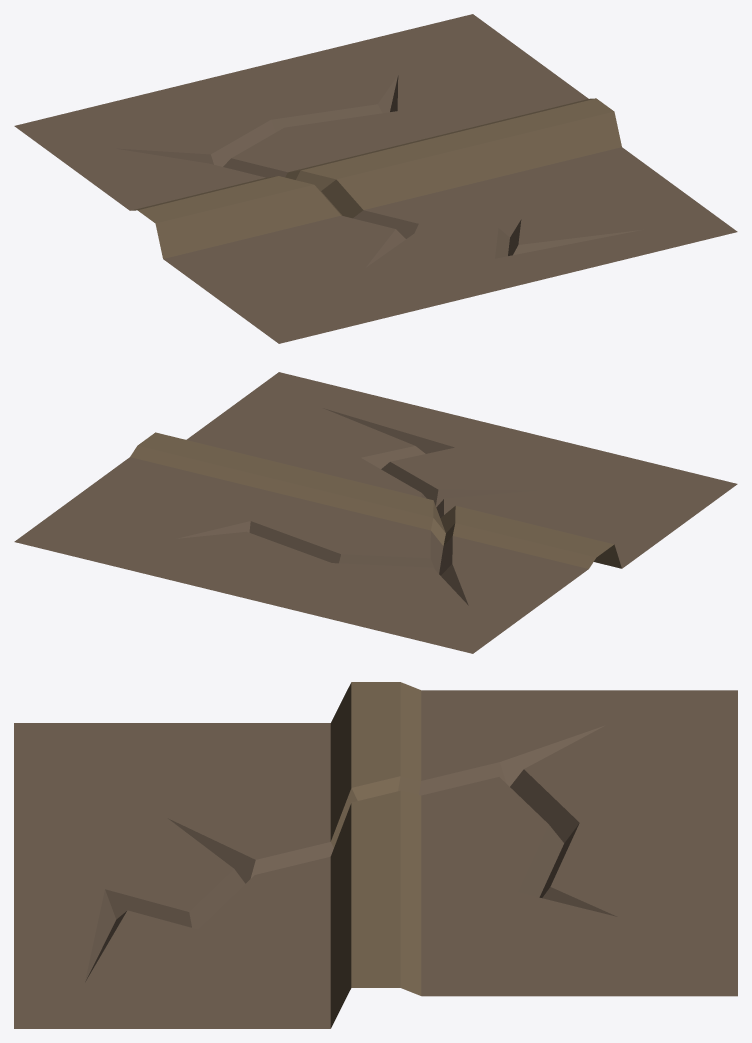
File: LP_PostApoc_PavedEdge.fbx
3 views of the same model, one above another, from view 1: azimuth 30°, elevation 25°; view 2: azimuth 150°, elevation 25°; view 3: azimuth 270°, elevation 25° (orthographic). The views are drawn at different scales.
Visible parts, largest first — view 1: PavedEdge; view 2: PavedEdge; view 3: PavedEdge.
Boxes of the visible parts, <box> form: PavedEdge: <box>14,14,737,343</box>; PavedEdge: <box>14,372,737,653</box>; PavedEdge: <box>14,682,737,1028</box>.
Bounding box in the file's own units: 400 × 37.12 × 400.
